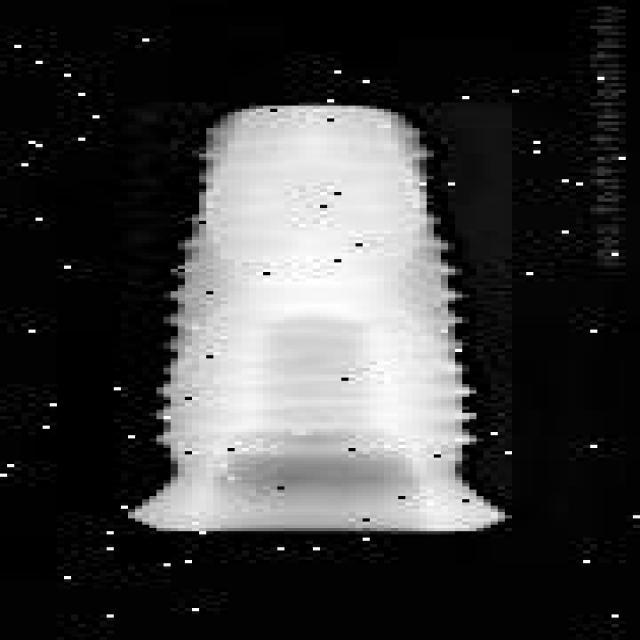Titan Implant Implant: (128, 102, 512, 531)
